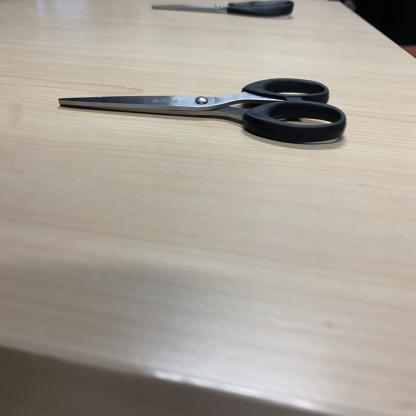scissors: (58, 76, 348, 144), (150, 0, 296, 18)
